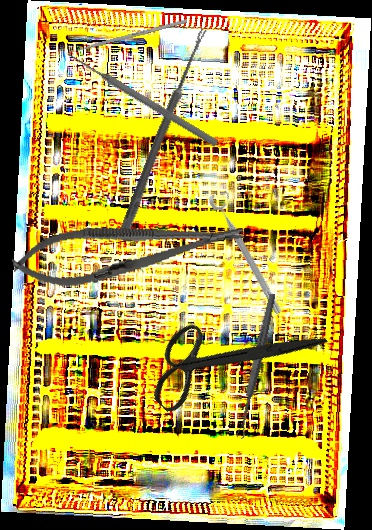Fixation Ring: (207, 187, 292, 317)
Iris Scissors: (132, 261, 329, 458)
Needle Holder: (9, 205, 248, 296)
Pusher: (64, 48, 220, 149), (58, 18, 188, 58)
Surgical Spoon: (118, 26, 208, 239), (234, 292, 278, 440)
